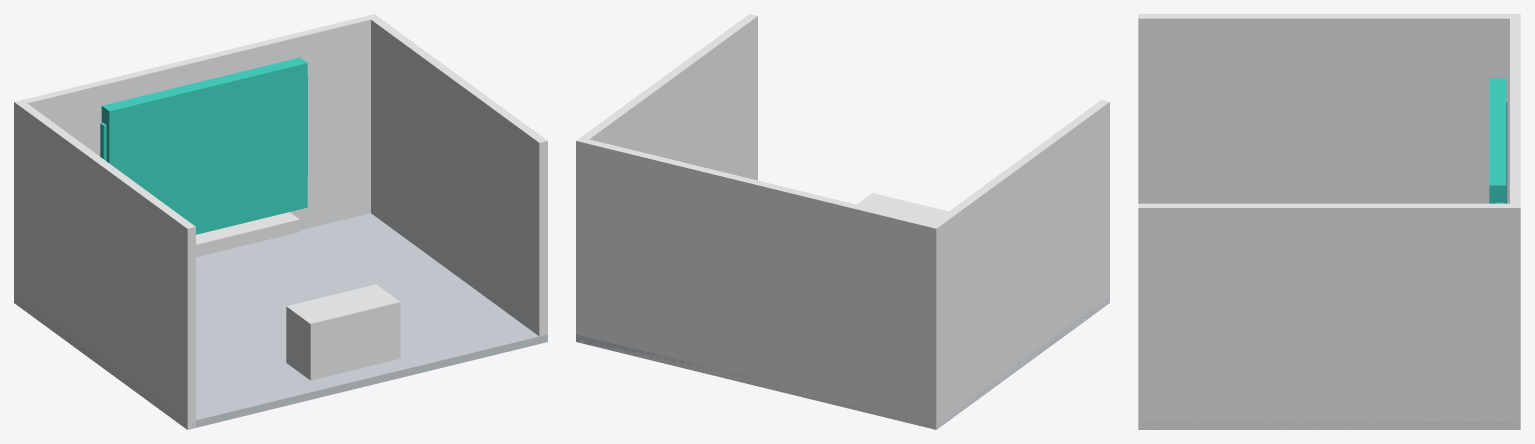
3 views of the same model, side by side, from view 1: azimuth 30°, elevation 25°; view 2: azimuth 150°, elevation 25°; view 3: azimuth 270°, elevation 25° (orthographic). The views are drawn at different scales.
Visible parts, largest first — view 1: Exhibition Booth Concept; view 2: Exhibition Booth Concept; view 3: Exhibition Booth Concept.
Boxes of the visible parts, bbox=[...] form: Exhibition Booth Concept: bbox=[14, 14, 547, 429]; Exhibition Booth Concept: bbox=[576, 14, 1109, 429]; Exhibition Booth Concept: bbox=[1138, 14, 1520, 429].
Size of the model in its own units: 6 by 3.2 by 5.
